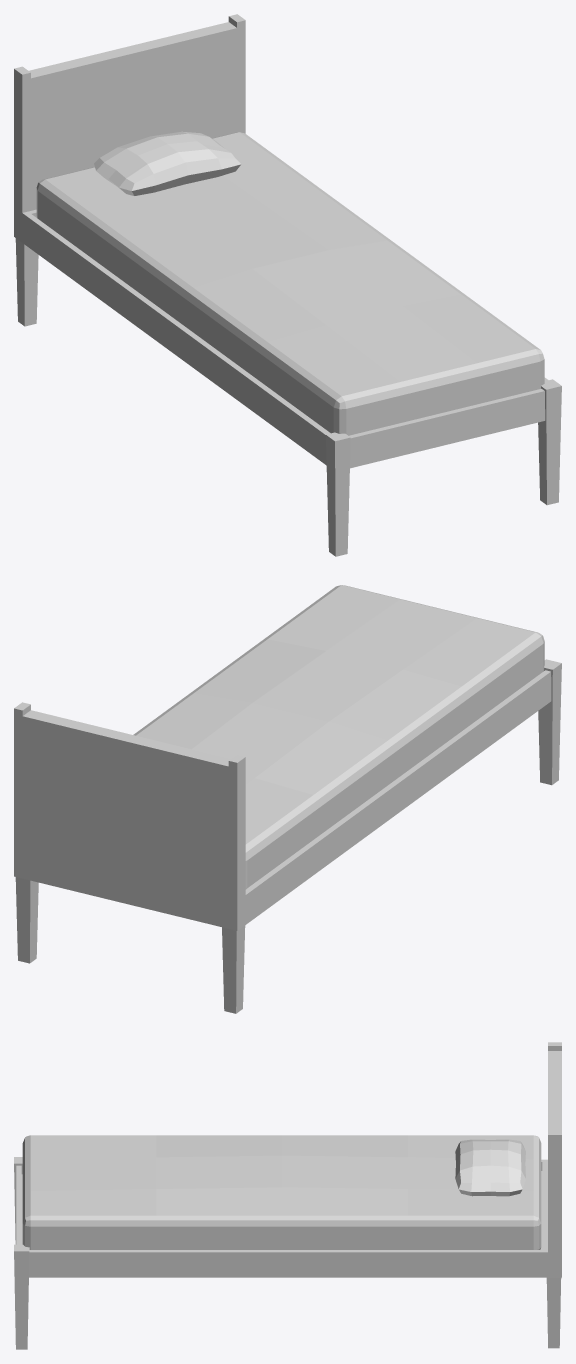
File: SM_Prop_Bed_Single.fbx
3 renders of one model, top to bottom at view 1: azimuth 30°, elevation 25°; view 2: azimuth 150°, elevation 25°; view 3: azimuth 270°, elevation 25°, orthographic. The views are drawn at different scales.
Parts seen in each view (by area): view 1: Mattress_Single, BedFrame_Single, Pillow_Single; view 2: Mattress_Single, BedFrame_Single; view 3: Mattress_Single, BedFrame_Single, Pillow_Single.
Part boxes in pixels (x1,y1,x2,y2): Mattress_Single: (36, 132, 544, 435); BedFrame_Single: (14, 14, 561, 556); Pillow_Single: (94, 131, 241, 195); Mattress_Single: (133, 585, 544, 888); BedFrame_Single: (14, 659, 561, 1013); Mattress_Single: (22, 1135, 541, 1249); BedFrame_Single: (14, 1042, 561, 1349); Pillow_Single: (455, 1139, 525, 1196).
Bounding box in the file's own units: 85.83 × 91.33 × 211.
